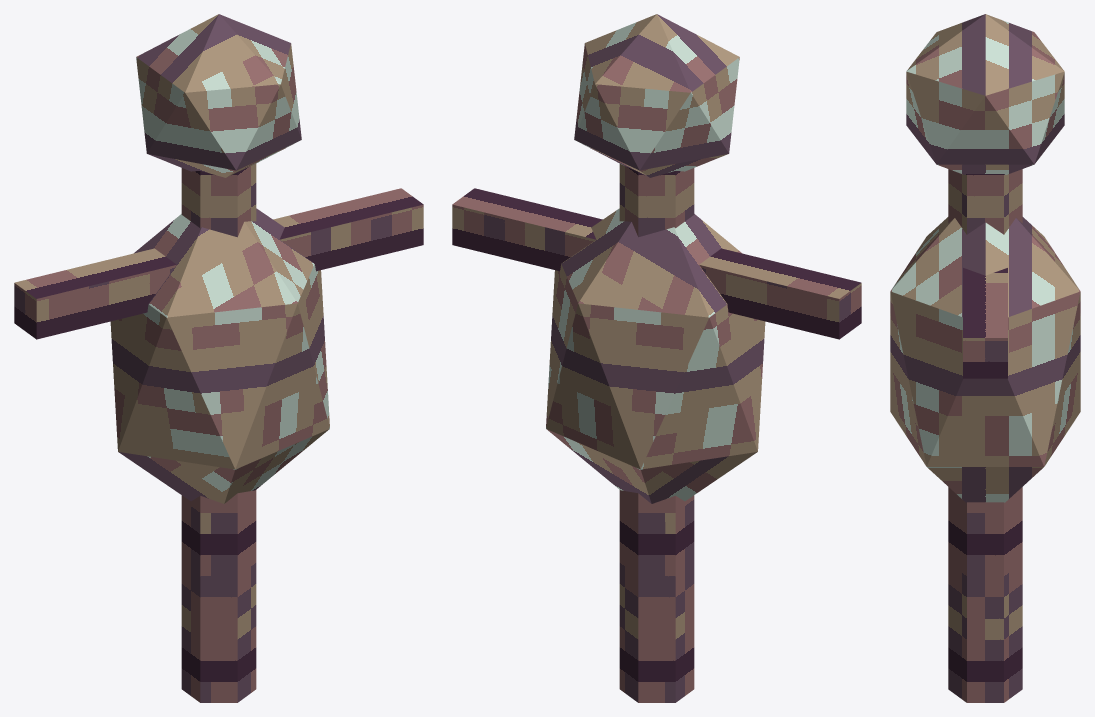
File: boneco_treino.glb
3 views of the same model, side by side, from view 1: azimuth 30°, elevation 25°; view 2: azimuth 150°, elevation 25°; view 3: azimuth 270°, elevation 25° (orthographic).
Visible parts, largest first — view 1: boneco_treino; view 2: boneco_treino; view 3: boneco_treino.
Boxes of the visible parts, x1,y1,x2,y2 form: boneco_treino: (14,14,423,702); boneco_treino: (452,14,861,702); boneco_treino: (890,14,1080,702).
Size of the model in its own units: 1.2 by 2 by 0.5104.
2 materials, 2 textured.
